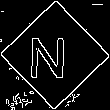N_N: (35, 29, 75, 81)
